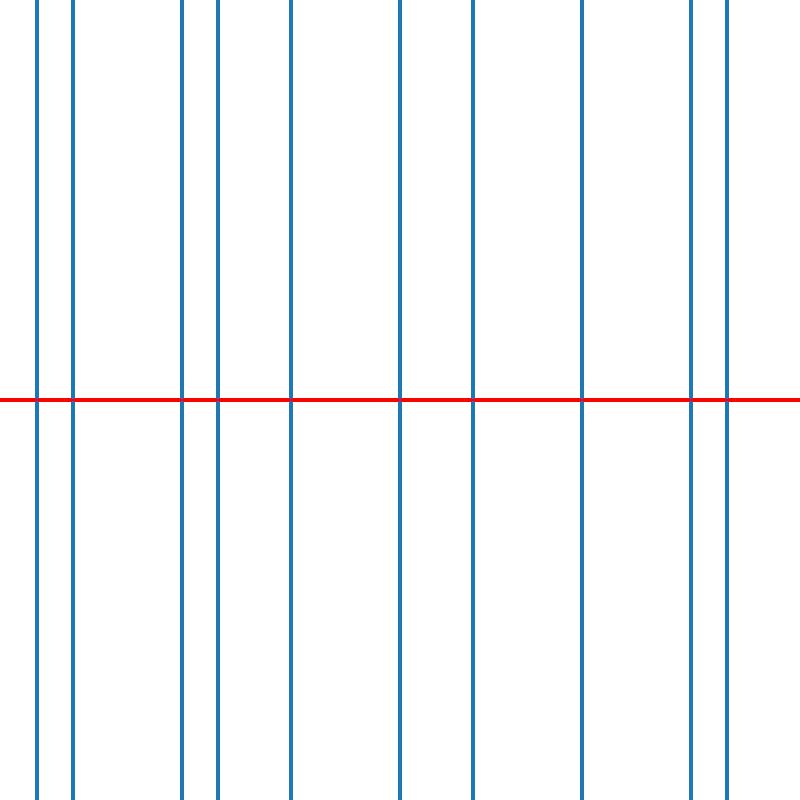root: (32, 396, 40, 404), (214, 396, 221, 404), (687, 396, 694, 404), (396, 396, 403, 404), (469, 396, 476, 404), (287, 396, 294, 404), (178, 396, 185, 404), (69, 396, 76, 404), (723, 396, 730, 404), (578, 396, 585, 404)
